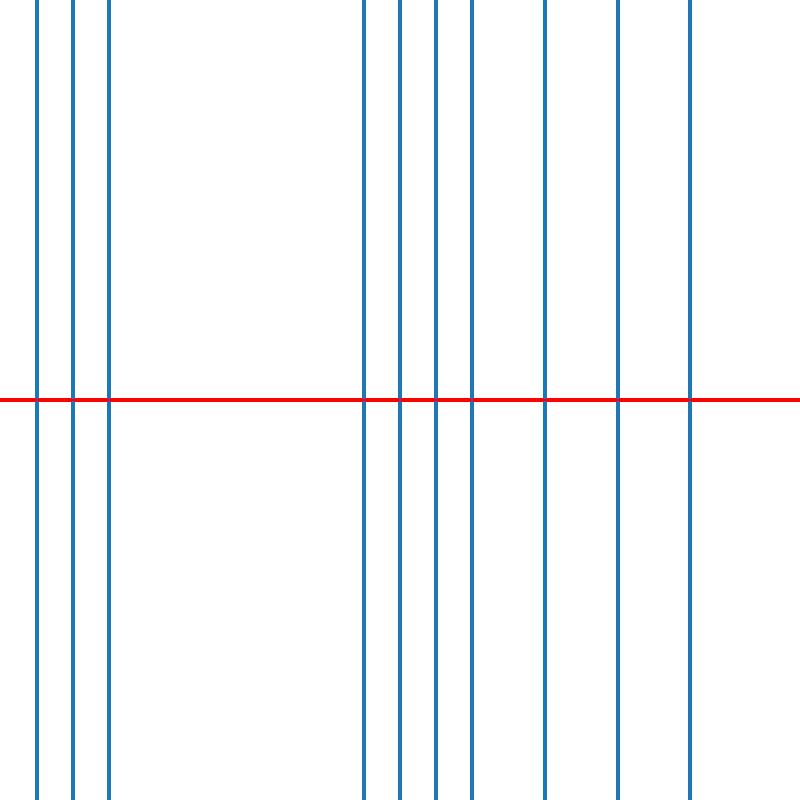root: (541, 396, 549, 404), (32, 396, 40, 404), (432, 396, 440, 404), (396, 396, 403, 404), (69, 396, 76, 404), (614, 396, 621, 404), (687, 396, 694, 404), (360, 396, 367, 404), (469, 396, 476, 404), (105, 396, 112, 404)
